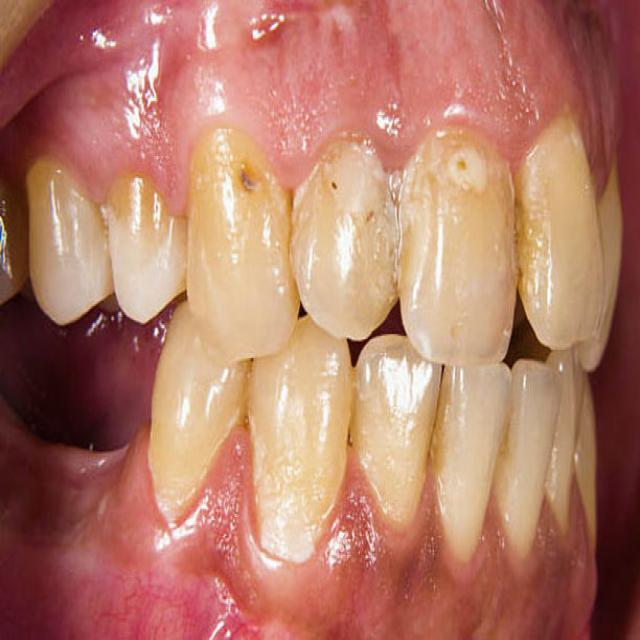caries: (235, 150, 269, 205)
